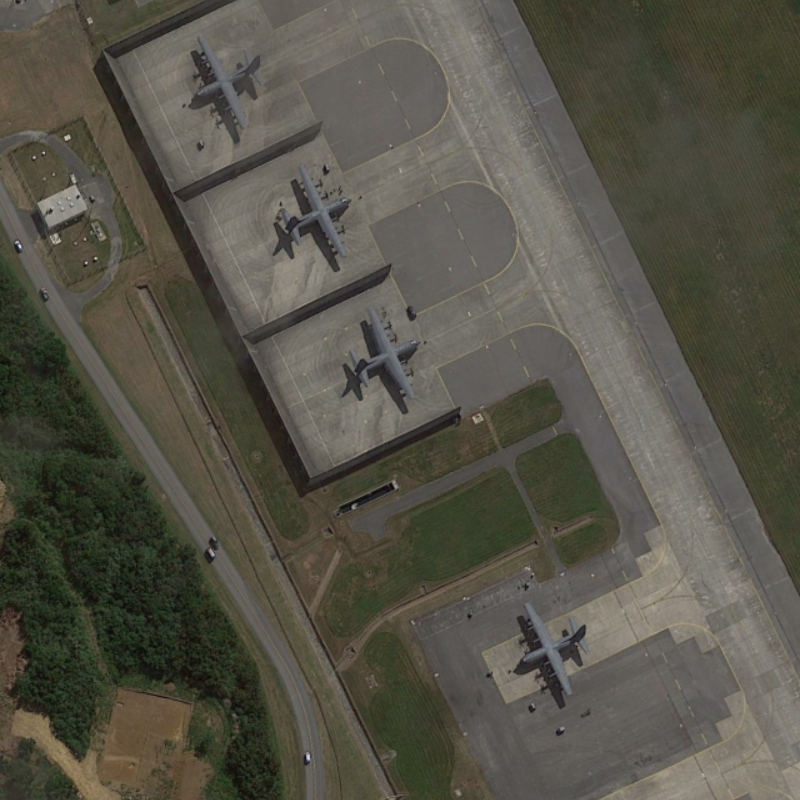A2: (175, 28, 268, 139), (265, 156, 358, 264), (509, 595, 597, 703), (338, 303, 425, 402)
